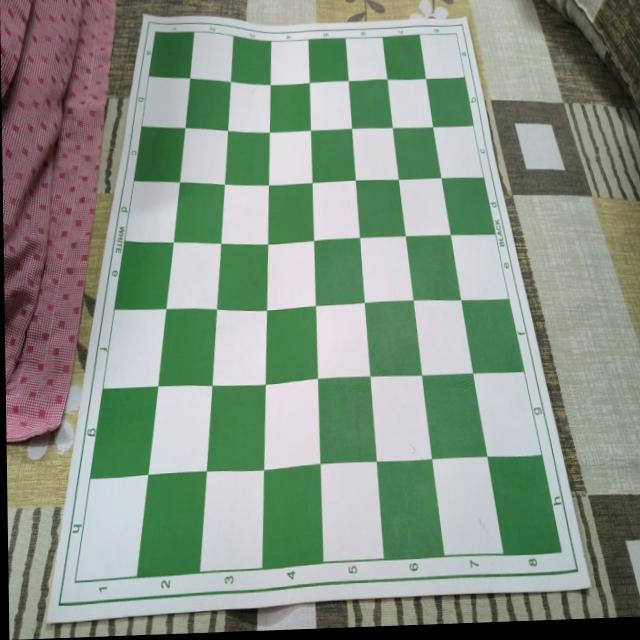square: (74, 475, 150, 582), (489, 453, 564, 559), (135, 472, 209, 577), (198, 467, 266, 574), (434, 461, 507, 559), (378, 459, 447, 557), (89, 385, 160, 478), (260, 463, 323, 566), (321, 461, 384, 561), (147, 384, 214, 475), (425, 373, 493, 457), (477, 371, 543, 457), (371, 374, 434, 464), (102, 307, 168, 389), (206, 384, 267, 472), (319, 380, 381, 466), (262, 380, 320, 468), (463, 297, 526, 376), (157, 307, 218, 387), (364, 300, 424, 380), (213, 307, 272, 387), (113, 239, 175, 311), (416, 298, 473, 376), (265, 304, 318, 384), (317, 303, 372, 379), (166, 241, 223, 312), (217, 242, 272, 314), (450, 233, 508, 301), (408, 233, 463, 303), (124, 179, 181, 245), (265, 239, 316, 311), (361, 236, 412, 304), (316, 237, 366, 306), (173, 181, 226, 245), (133, 125, 186, 185), (443, 178, 496, 238), (357, 178, 408, 240), (399, 179, 451, 238), (220, 182, 271, 242), (179, 126, 229, 186), (267, 182, 314, 244), (312, 179, 361, 237), (141, 75, 191, 130), (433, 125, 483, 180), (224, 129, 271, 187), (185, 77, 232, 132), (352, 127, 399, 182), (395, 125, 441, 180), (312, 126, 356, 183), (517, 121, 565, 173), (268, 131, 313, 186), (350, 76, 395, 131), (227, 81, 272, 135), (428, 75, 473, 128), (190, 30, 234, 84), (149, 31, 195, 81), (388, 79, 433, 130), (310, 80, 353, 131), (231, 34, 271, 86), (420, 33, 465, 79), (270, 83, 311, 133), (383, 35, 426, 80), (309, 35, 349, 83), (346, 37, 387, 82), (270, 40, 310, 85), (624, 538, 640, 617)
